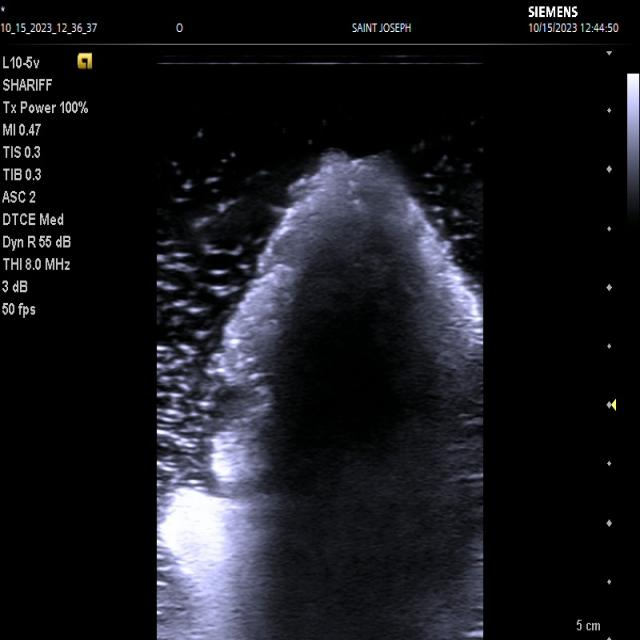tissue: (161, 153, 484, 640)
